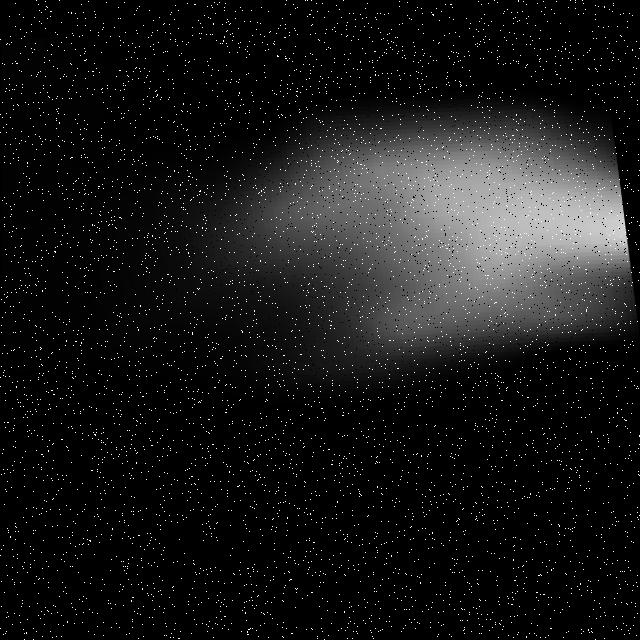person: (132, 45, 640, 445)
